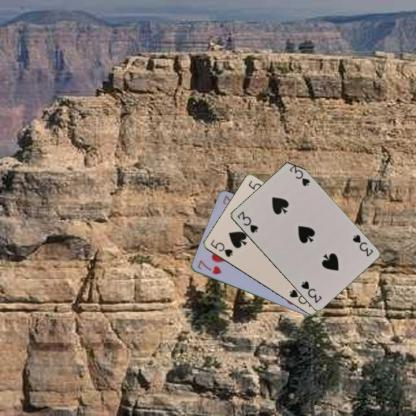3s: (234, 209, 259, 234), (350, 232, 374, 258)
5s: (207, 237, 234, 258)
7h: (195, 258, 222, 276)
